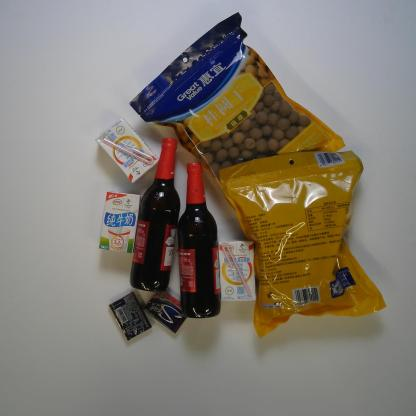Alcohol: (129, 137, 181, 293), (176, 162, 222, 320)
Dried Food: (128, 11, 347, 214), (218, 149, 389, 341)
Gum: (108, 291, 152, 342), (142, 291, 188, 334)
Milk: (94, 116, 160, 186), (97, 190, 144, 254), (218, 240, 257, 303)
